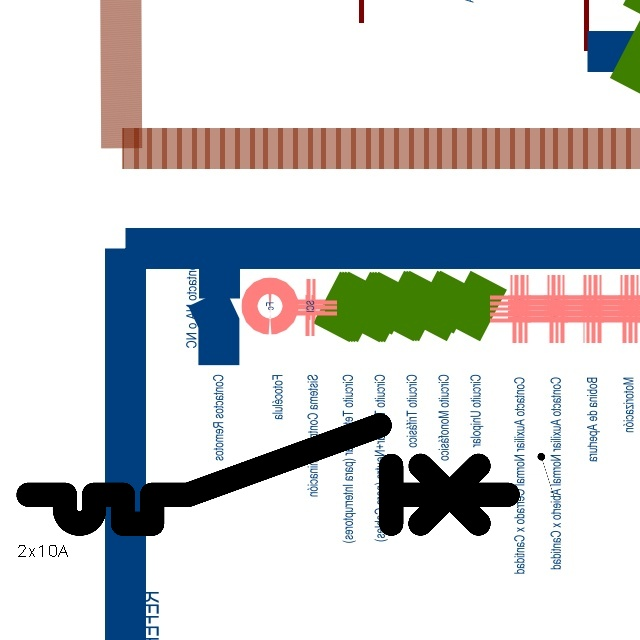interruptor_termomagnetico: (16, 413, 520, 536)
